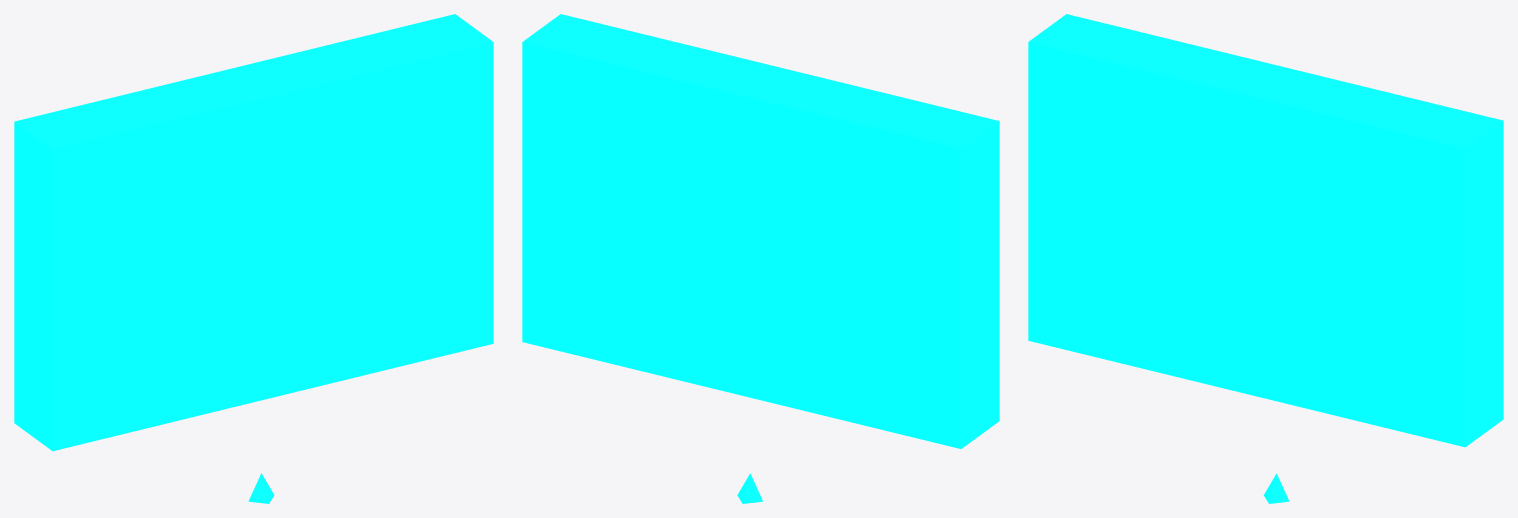
File: Holograma.FBX
3 views of the same model, side by side, from view 1: azimuth 30°, elevation 25°; view 2: azimuth 150°, elevation 25°; view 3: azimuth 330°, elevation 25° (orthographic).
Parts seen in each view (by area): view 1: G_Holograma; view 2: G_Holograma; view 3: G_Holograma.
Boxes of the visible parts, <box> form: G_Holograma: <box>14,14,493,503</box>; G_Holograma: <box>522,14,999,503</box>; G_Holograma: <box>1028,14,1503,503</box>.
Bounding box in the file's own units: 24.71 × 22.49 × 3.74.
